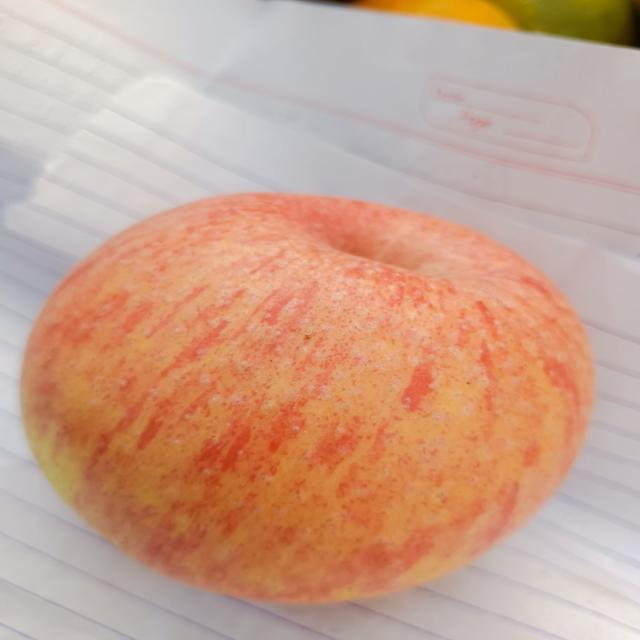Fresh Apple: (27, 195, 590, 605)
